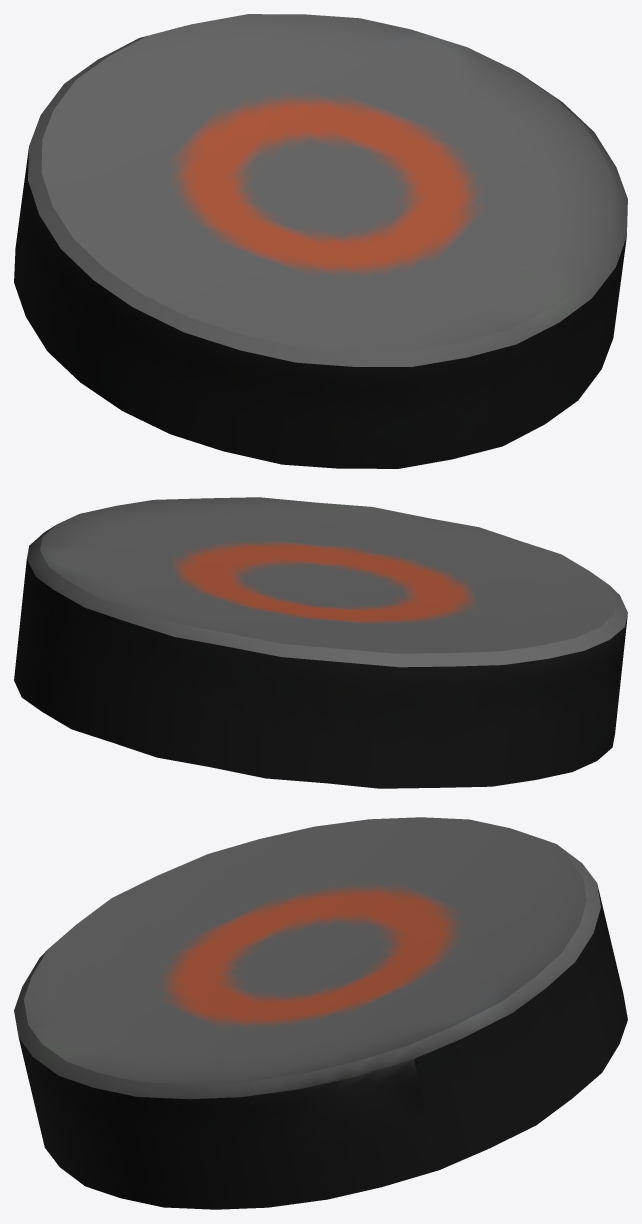
Rendered from LPico.obj.
3 renders of one model, top to bottom at view 1: azimuth 30°, elevation 25°; view 2: azimuth 150°, elevation 25°; view 3: azimuth 270°, elevation 25°, orthographic.
Visible parts, largest first — view 1: P_Controller_L:LPico; view 2: P_Controller_L:LPico; view 3: P_Controller_L:LPico.
Boxes of the visible parts, x1,y1,x2,y2 form: P_Controller_L:LPico: [14, 14, 627, 468]; P_Controller_L:LPico: [14, 497, 627, 788]; P_Controller_L:LPico: [14, 817, 627, 1209].
Size of the model in its own units: 0.00866 by 0.00366 by 0.00884.
Materials: 1 (1 with a texture image).
